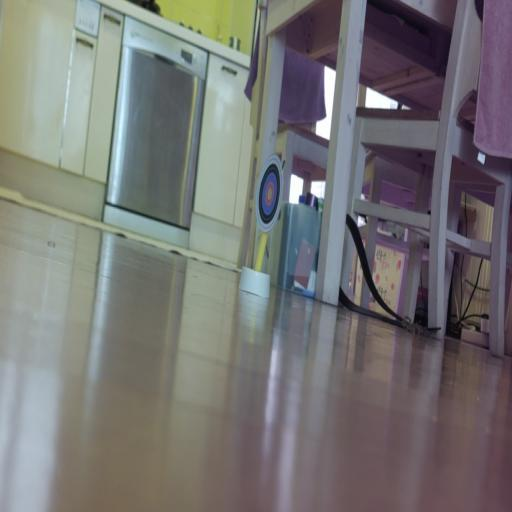target: (257, 155, 282, 231)
